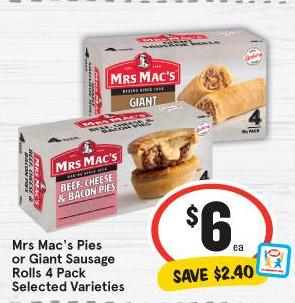description_block: (7, 234, 139, 296)
price_main: (152, 188, 266, 257)
product_image_block: (6, 26, 276, 185)
promo_text_block: (153, 262, 273, 288)
